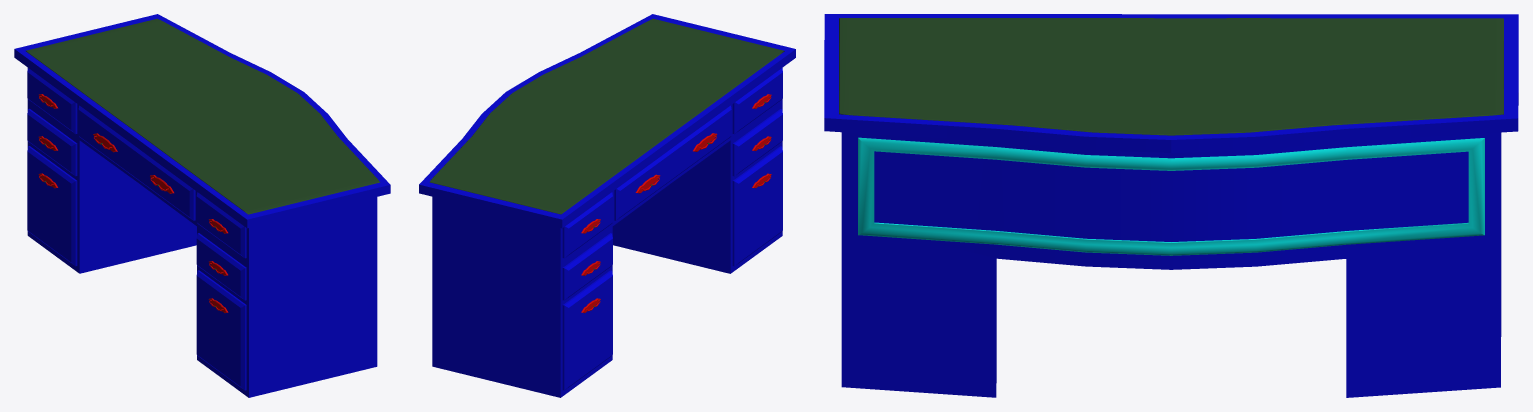
File: SM_Desk_001.fbx
3 renders of one model, left to right at view 1: azimuth 30°, elevation 25°; view 2: azimuth 150°, elevation 25°; view 3: azimuth 270°, elevation 25°, orthographic. The views are drawn at different scales.
Parts seen in each view (by area): view 1: SM_Desk_001; view 2: SM_Desk_001; view 3: SM_Desk_001.
Boxes of the visible parts, x1,y1,x2,y2 form: SM_Desk_001: [14, 14, 390, 397]; SM_Desk_001: [419, 14, 795, 397]; SM_Desk_001: [824, 14, 1518, 397].
Size of the model in its own units: 83.46 by 84.25 by 193.
